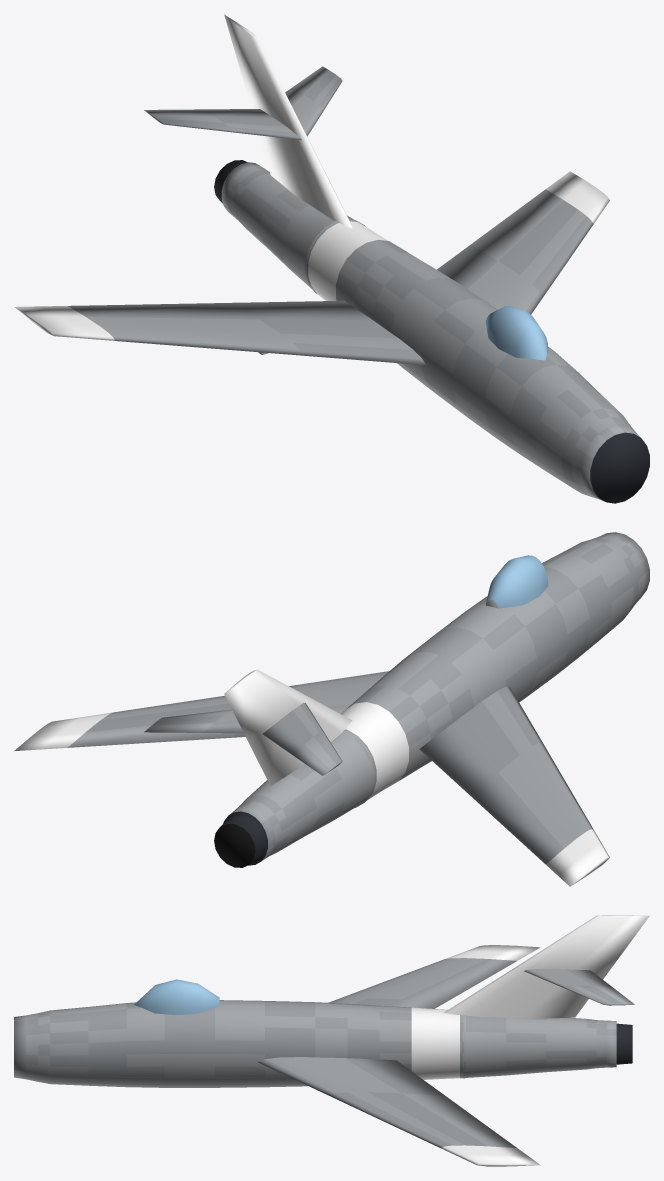
Rendered from mig17f.glb.
3 views of the same model, one above another, from view 1: azimuth 30°, elevation 25°; view 2: azimuth 150°, elevation 25°; view 3: azimuth 270°, elevation 25° (orthographic). The views are drawn at different scales.
Visible parts, largest first — view 1: body; view 2: body; view 3: body.
Boxes of the visible parts, bbox=[...] form: body: bbox=[14, 14, 649, 503]; body: bbox=[14, 532, 649, 886]; body: bbox=[14, 915, 649, 1166].
Bounding box in the file's own units: 9.63 × 3.48 × 11.88.
